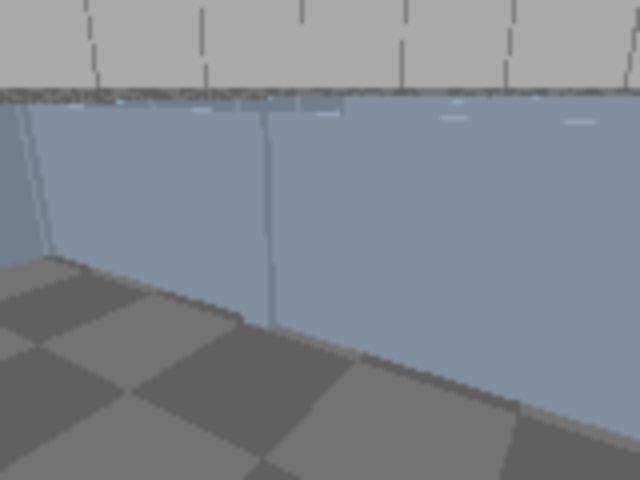puck: (176, 471, 264, 478)
